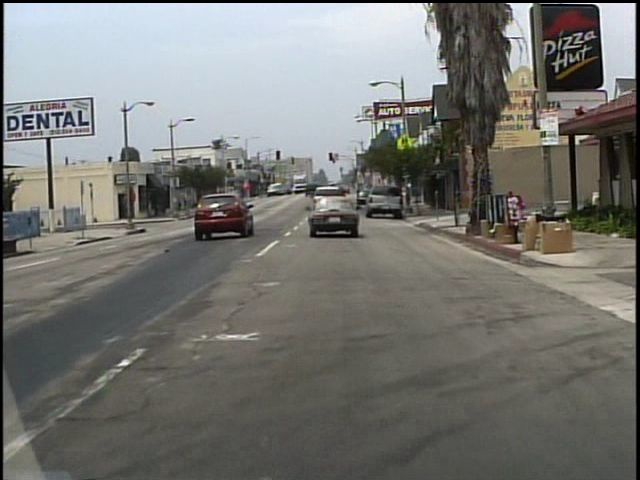person: (480, 180, 491, 214), (470, 183, 479, 211)
